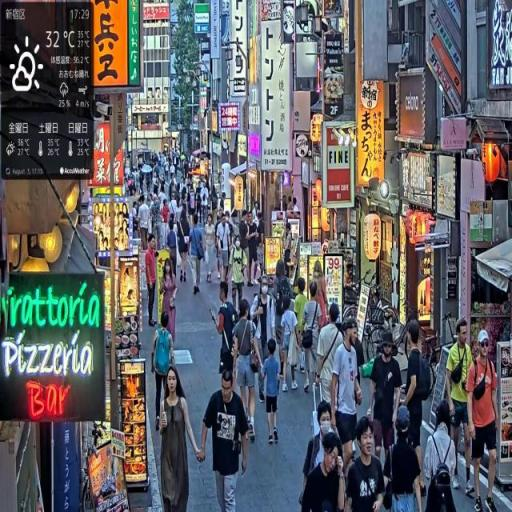person: (198, 367, 250, 512), (464, 330, 503, 512), (158, 366, 205, 512), (446, 319, 477, 497), (332, 321, 364, 480), (369, 336, 403, 480), (232, 295, 264, 441), (383, 404, 425, 512), (401, 319, 432, 460), (423, 397, 460, 512), (346, 416, 386, 512), (316, 304, 345, 430), (302, 431, 347, 512), (152, 311, 176, 436), (259, 336, 282, 447), (300, 281, 321, 398), (216, 281, 237, 387), (280, 296, 301, 397), (293, 276, 310, 389), (228, 233, 248, 326), (188, 214, 209, 296), (161, 258, 179, 348), (215, 210, 234, 292), (178, 203, 193, 287), (146, 234, 159, 330), (203, 211, 218, 286), (139, 197, 152, 256)
